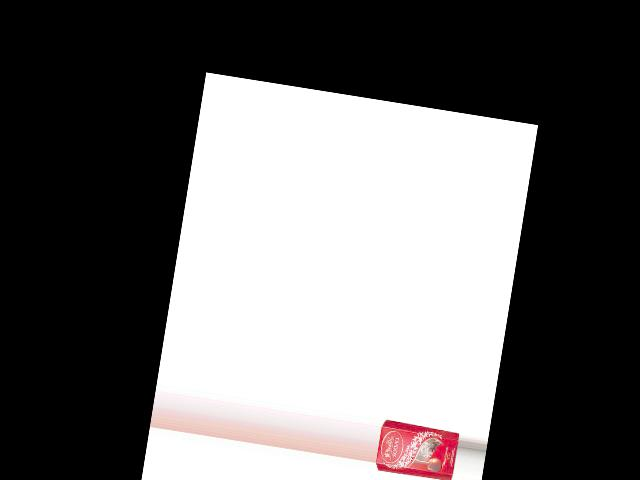chocolate: (374, 417, 460, 480)
